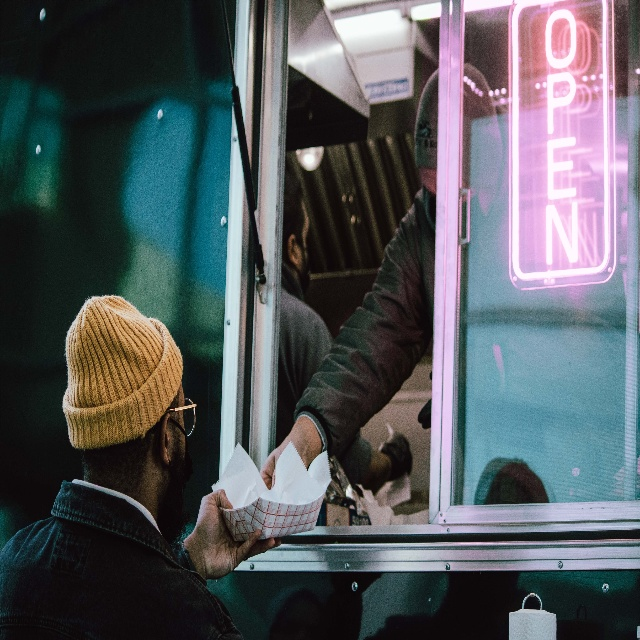Gafas: (168, 395, 197, 433)
Guantes: (383, 434, 412, 474)
Sin_guantes: (196, 490, 281, 576), (260, 413, 323, 484)
